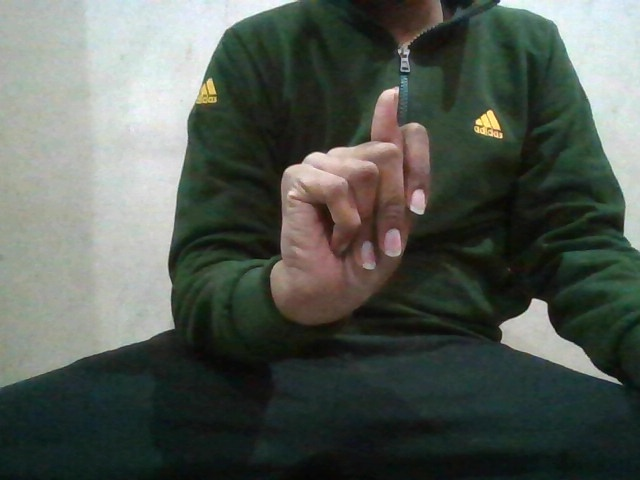T: (274, 78, 439, 294)
